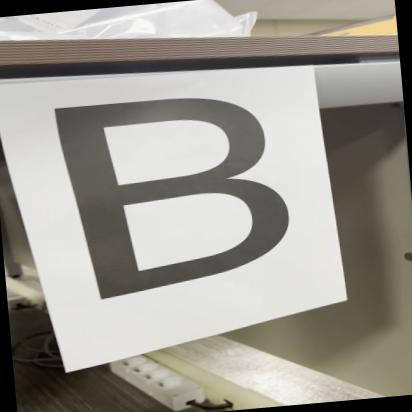seat: (27, 76, 302, 308)
